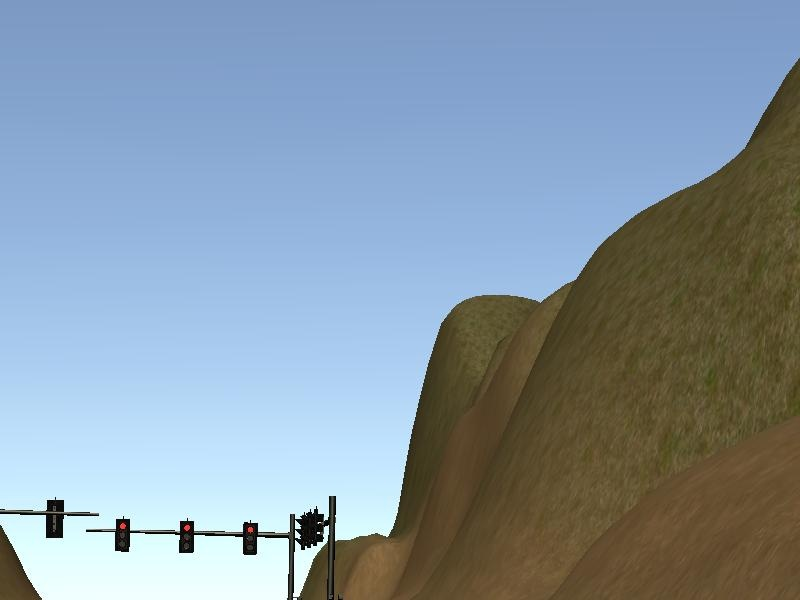red: (107, 514, 139, 556), (177, 517, 200, 556), (240, 517, 263, 556)
